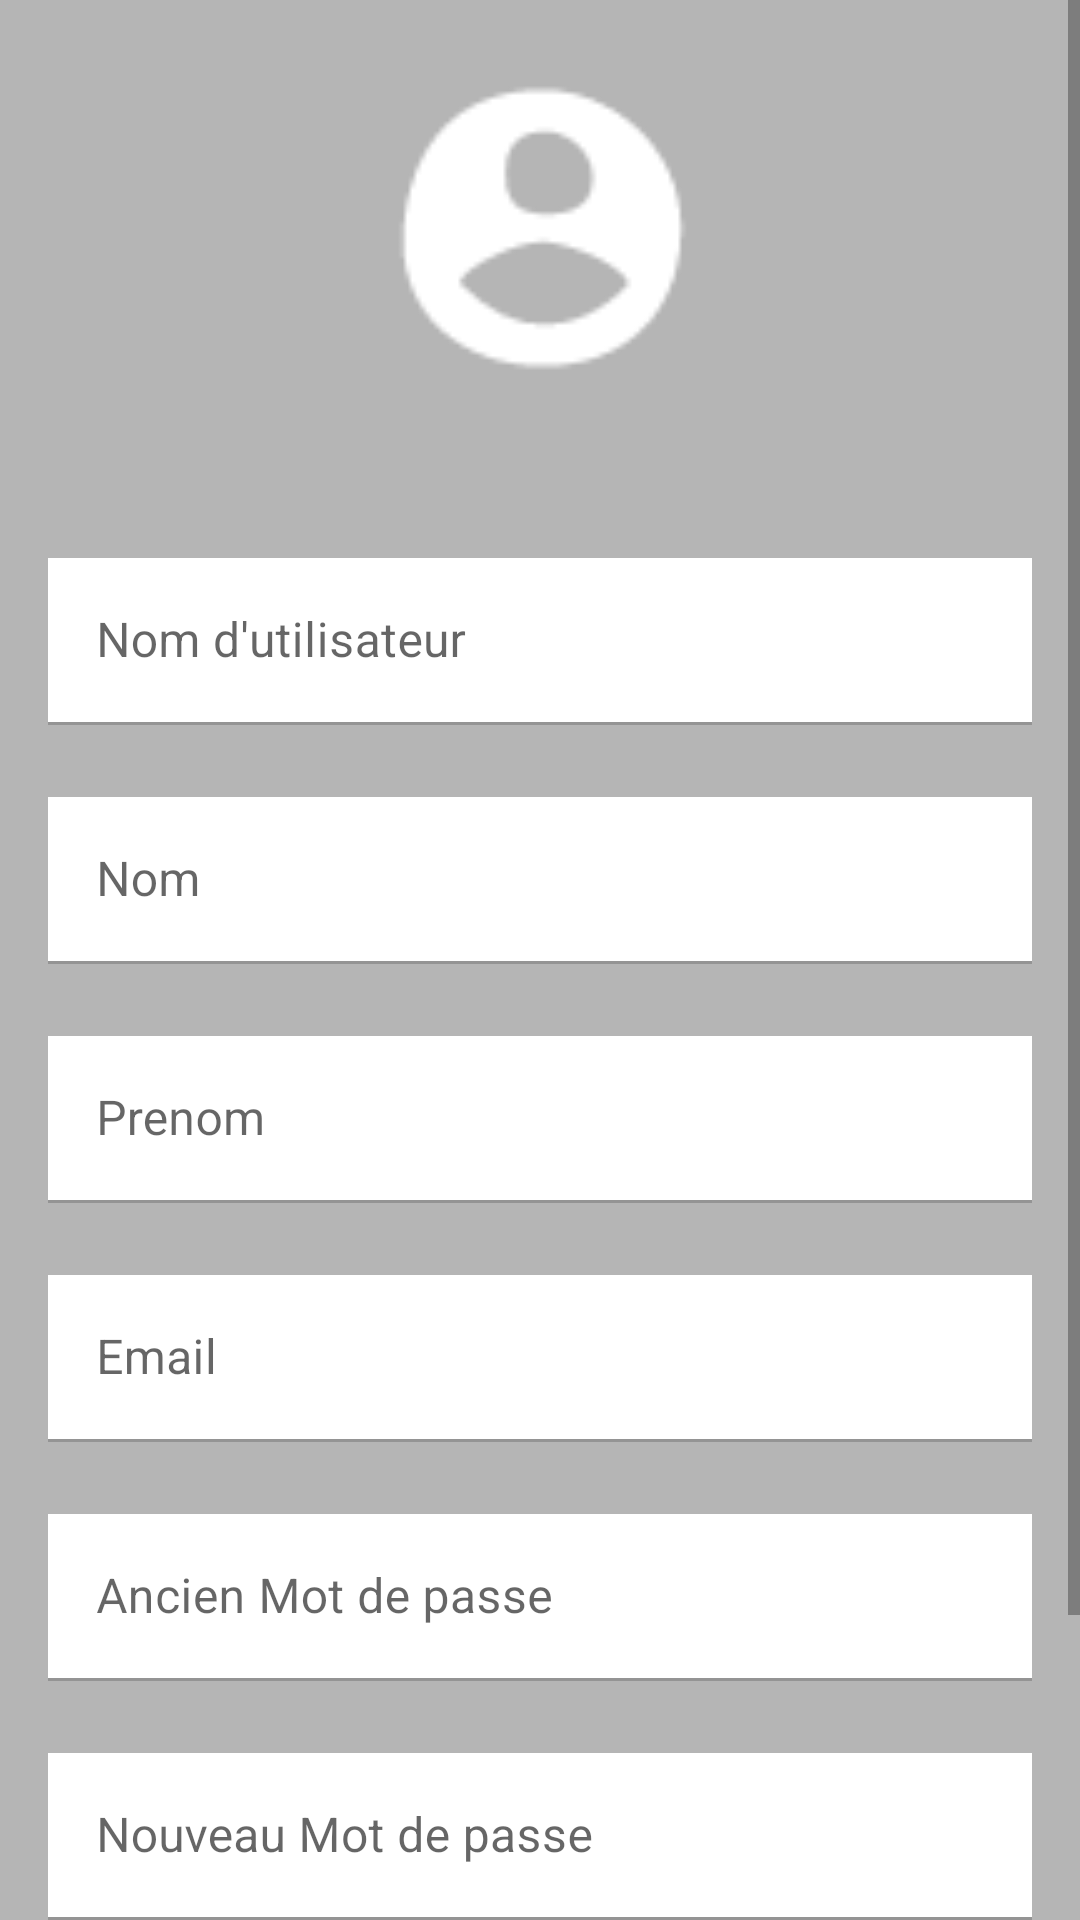

Screen size 1080*1920. Icon name, then its box in pixels as rect(x1, y1, x2, y2):
profile: rect(403, 89, 682, 367)
